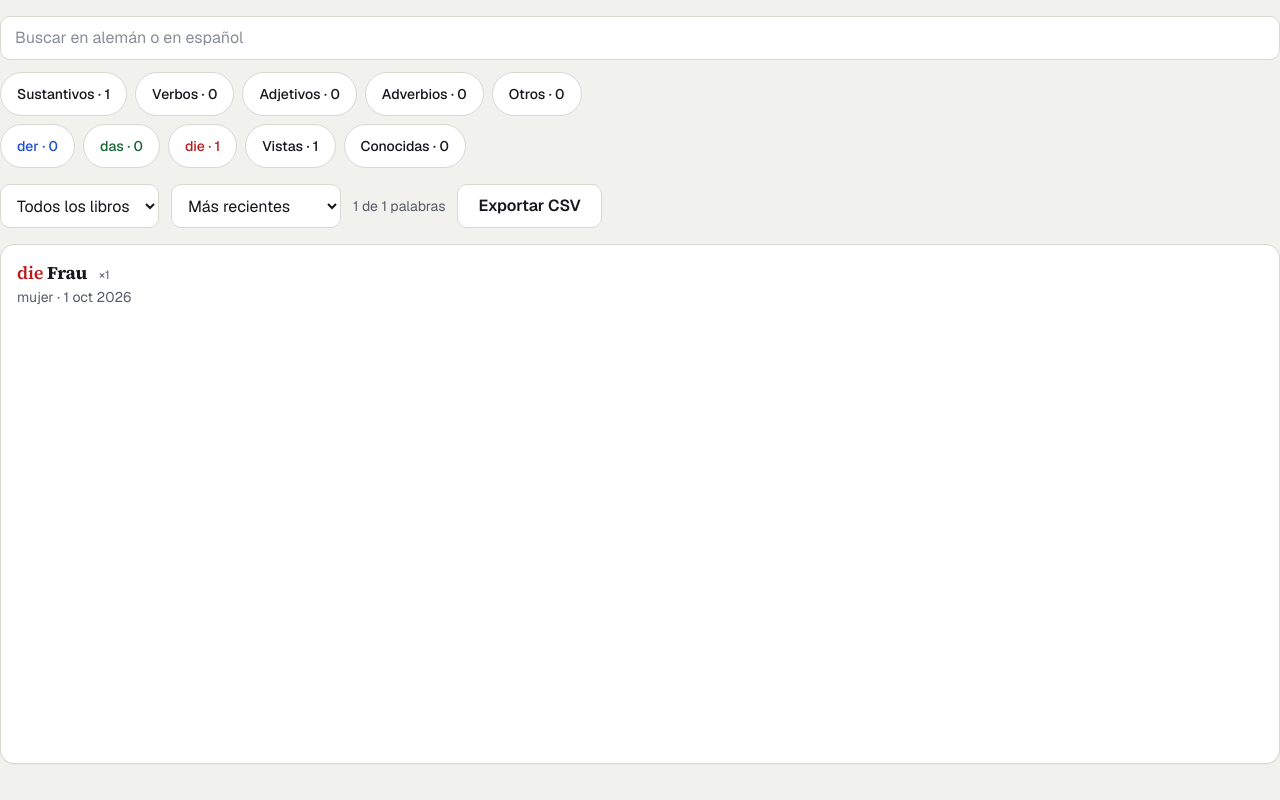
Test: DictionaryView (RF-30, RF-31, RF-29) › el detalle muestra significados, oración y enlace a la página; marca como conocida
This screenshot has width=1280, height=800.
Click the button "die Frau ×1 mujer · 1 oct 2026": x=67, y=272 x1=1 y1=245 x2=1279 y2=321
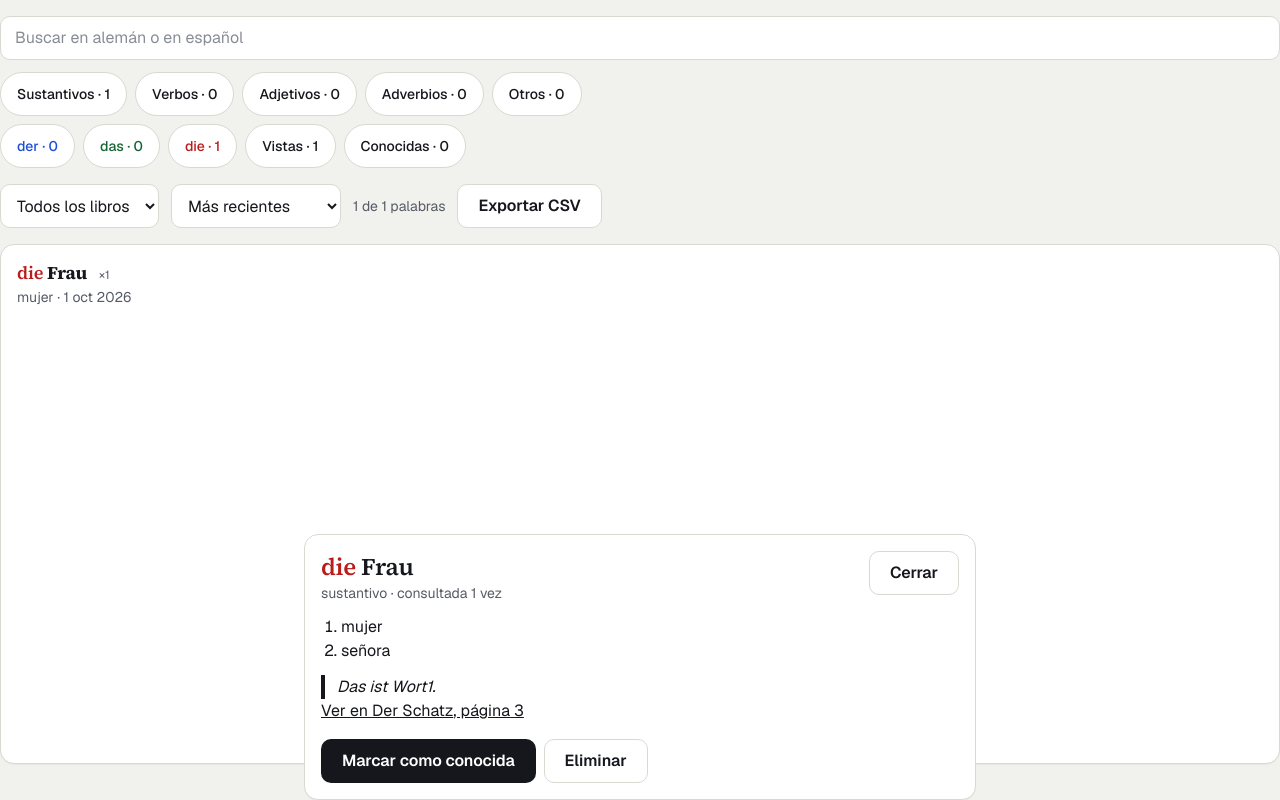
Expected: the dialog shows "señora", x1=341 y1=640 x2=390 y2=661
Expected: the dialog shows "Das ist Wort1.", x1=337 y1=676 x2=436 y2=697
Click the button "Marcar como conocida": x=428, y=761 x1=321 y1=739 x2=536 y2=783
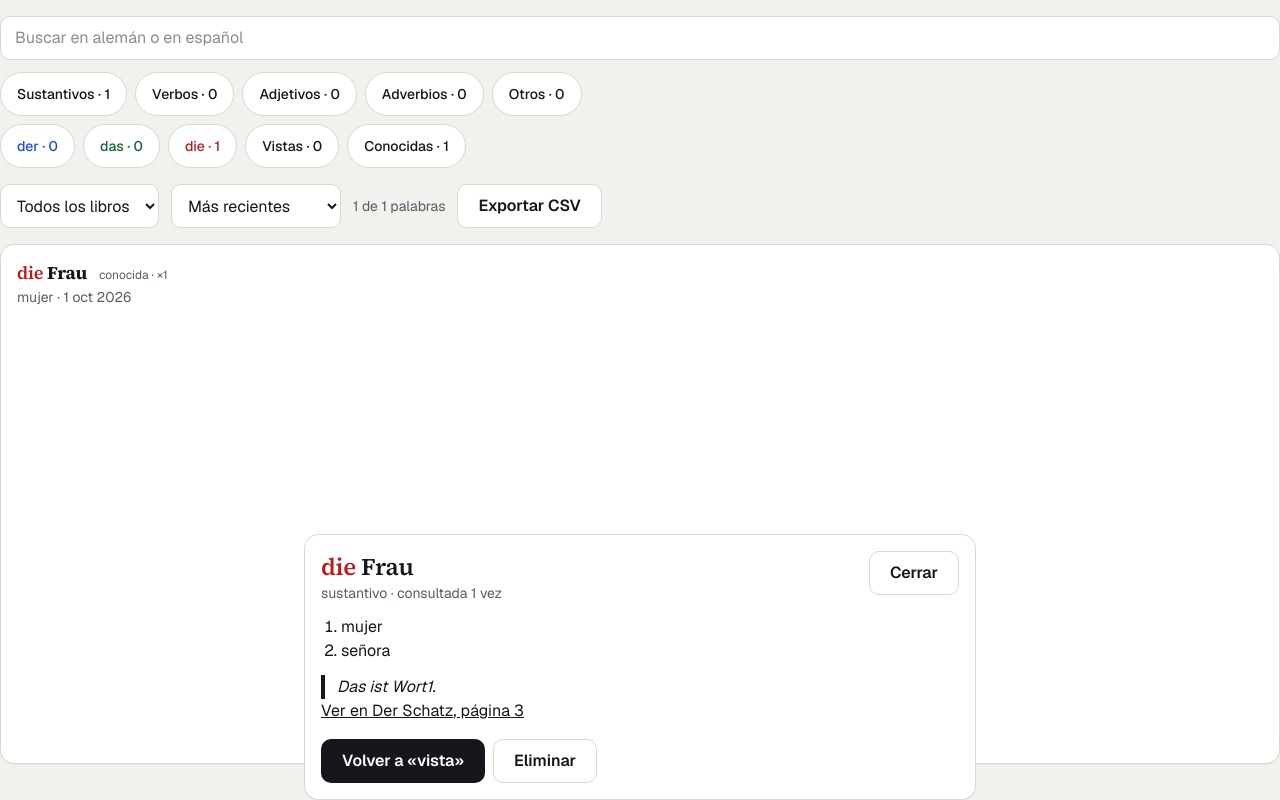
Expected: the button "Volver a «vista»" is shown, x1=321 y1=739 x2=485 y2=783
